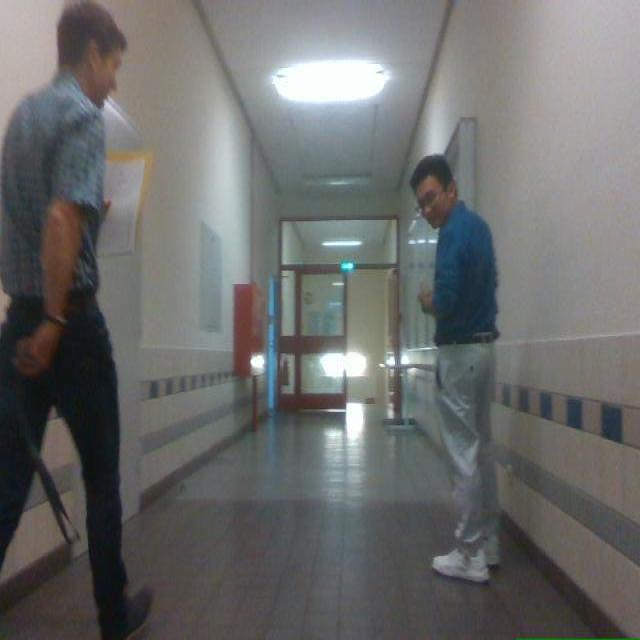humans: (0, 2, 150, 639), (410, 155, 499, 582)
objects: (17, 384, 79, 543)
